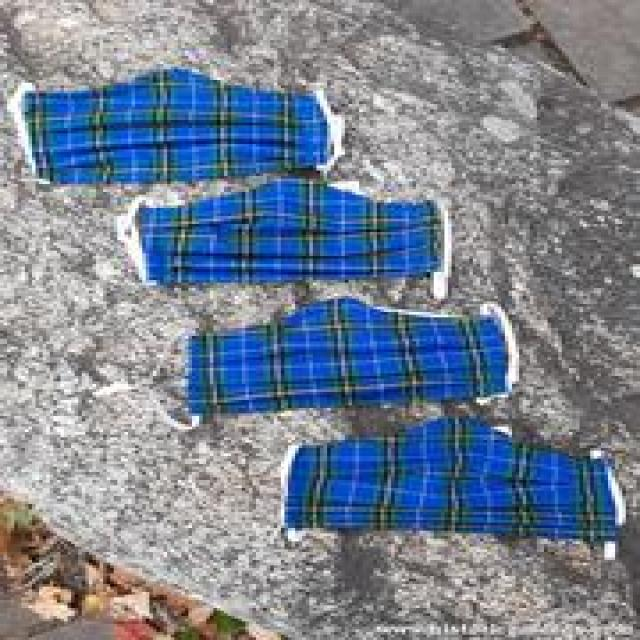non-organic waste: (270, 402, 633, 546), (14, 67, 352, 192), (182, 293, 540, 408), (114, 187, 469, 290)
